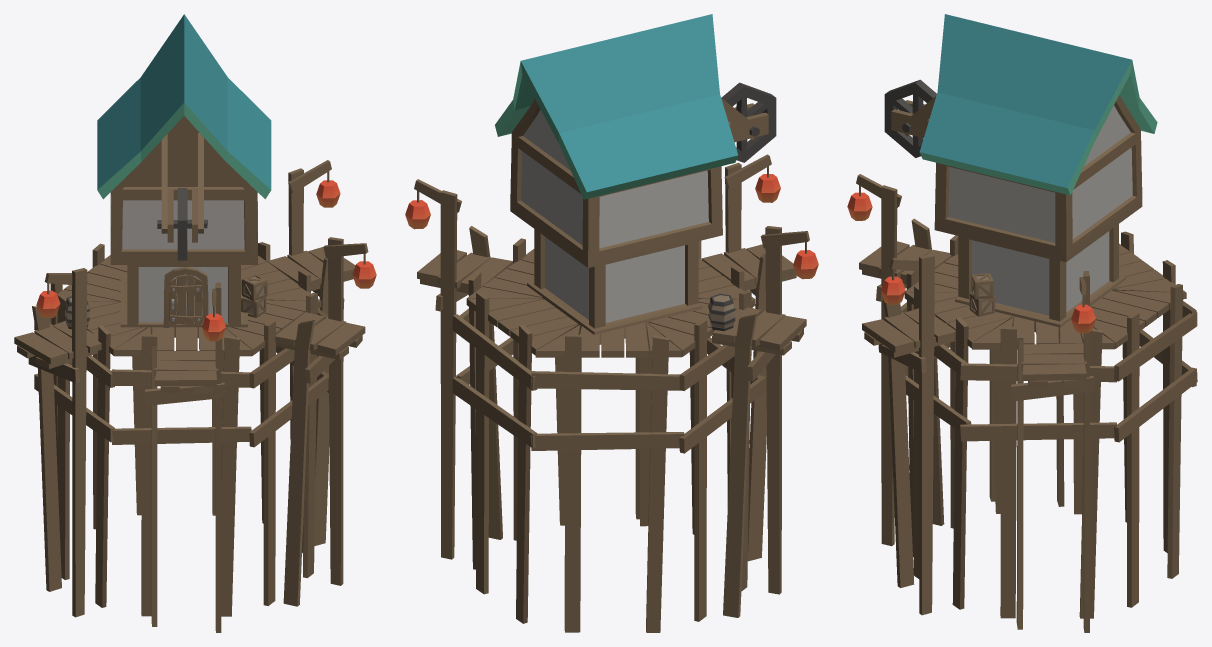
The model's file is seaPort.fbx.
The picture shows the model from 3 angles, left to right: view 1: azimuth 30°, elevation 25°; view 2: azimuth 150°, elevation 25°; view 3: azimuth 270°, elevation 25°; orthographic projection. The views are drawn at different scales.
Parts seen in each view (by area): view 1: seaPort; view 2: seaPort; view 3: seaPort.
Part boxes in pixels (left/top/right/bottom): seaPort: left=14, top=14, right=376, bottom=632; seaPort: left=405, top=14, right=818, bottom=632; seaPort: left=847, top=14, right=1197, bottom=632.
Bounding box in the file's own units: 4.13 × 5.86 × 3.53.
